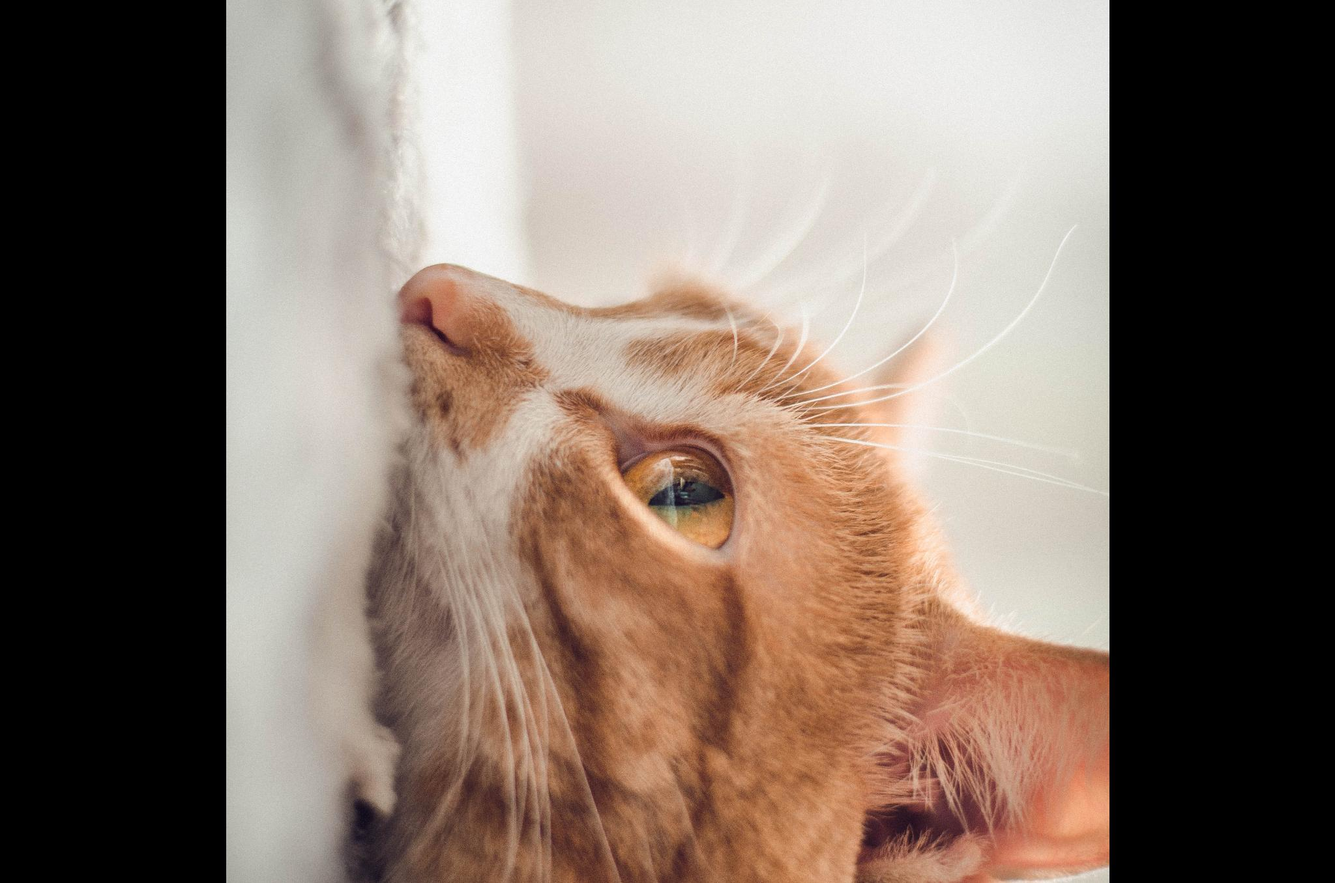cat: (343, 197, 1109, 883)
